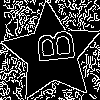B: (27, 28, 75, 66)
